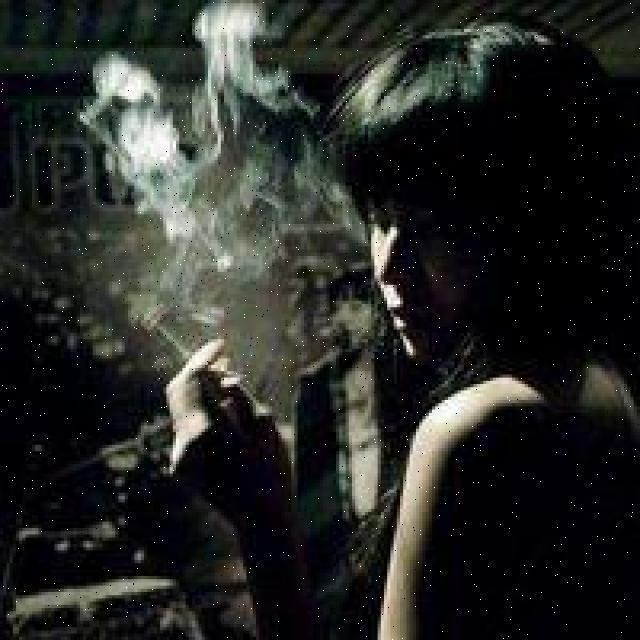smoke: (91, 2, 318, 322)
